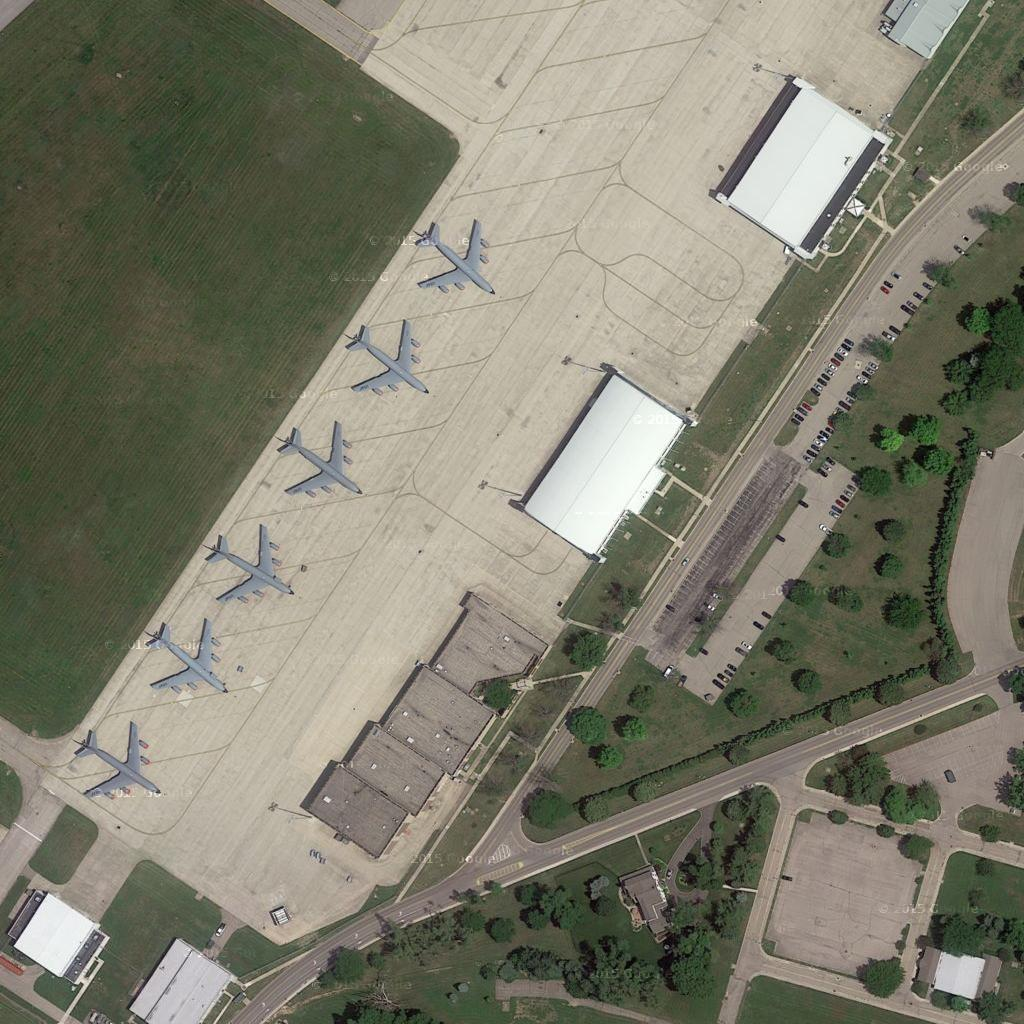KC-135: (67, 722, 168, 809), (403, 214, 504, 301), (200, 519, 298, 607), (142, 615, 237, 701), (272, 419, 367, 505), (343, 316, 435, 403)
